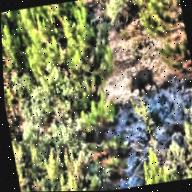boar: (118, 56, 165, 106)
